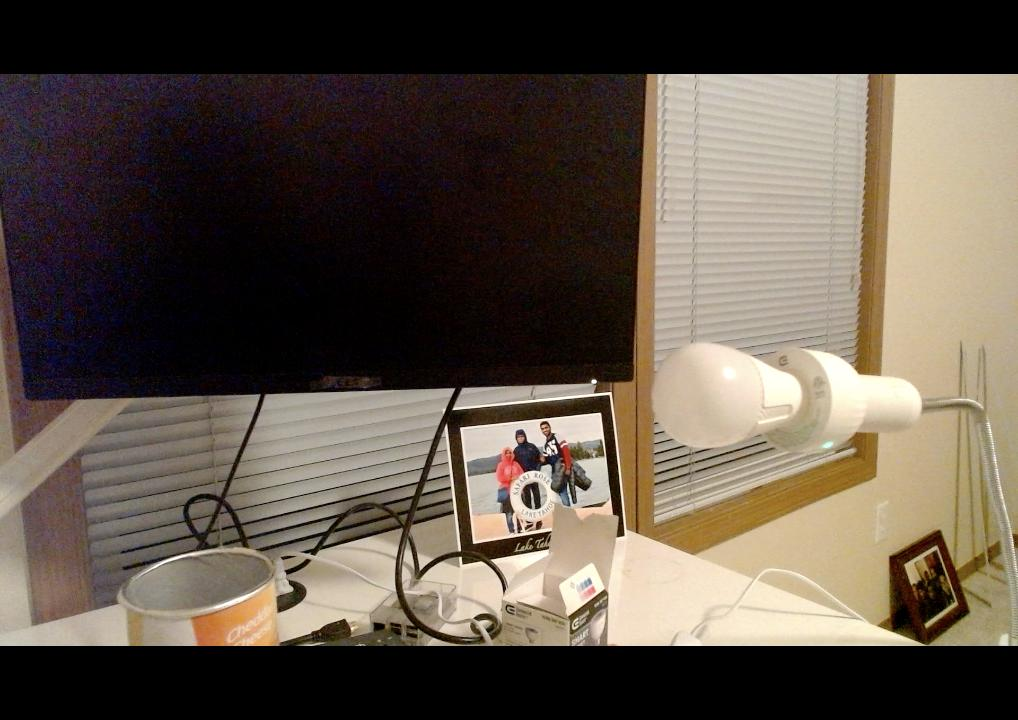Fan: (650, 341, 808, 448)
